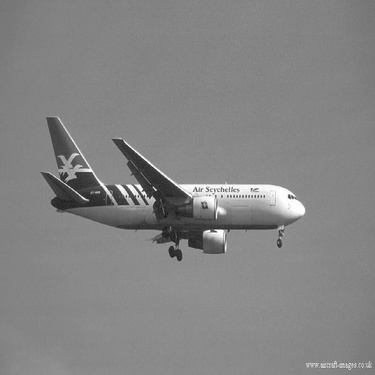airplane: (23, 108, 311, 263)
